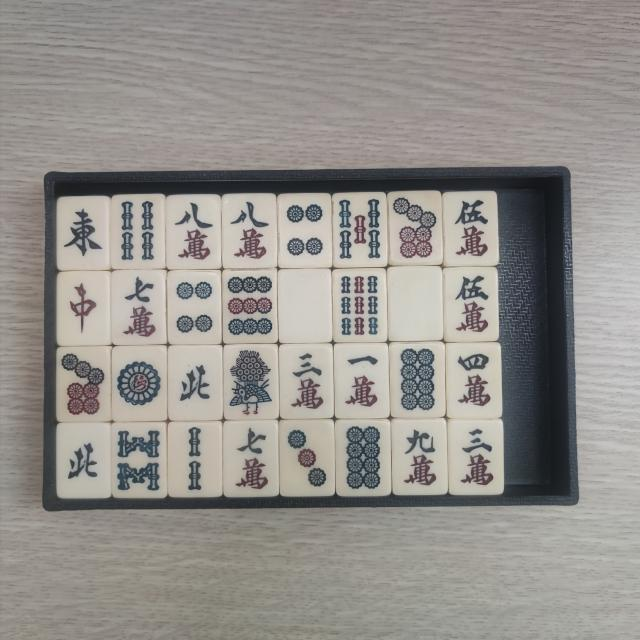hdr: (62, 275, 106, 339)
hdw: (394, 270, 439, 336), (284, 276, 329, 339)
hwe: (60, 202, 105, 266)
hwn: (175, 348, 218, 412), (64, 429, 106, 493)
sb1: (228, 348, 276, 418)
sb2: (172, 425, 216, 493)
sb4: (116, 197, 161, 264)
sb5: (338, 197, 383, 265)
sb8: (116, 426, 163, 494)
sb9: (338, 273, 382, 339)
sc1: (340, 348, 383, 414)
sc3: (456, 424, 500, 490), (286, 349, 328, 414)
sc4: (453, 348, 497, 412)
sc5: (448, 196, 492, 262), (450, 272, 492, 338)
sc7: (116, 274, 162, 342), (229, 426, 274, 494)
sc8: (172, 198, 218, 264), (226, 197, 270, 263)
sc9: (398, 425, 443, 492)
sd1: (116, 351, 164, 418)
sd3: (284, 424, 329, 491)
sd4: (284, 197, 328, 263), (173, 277, 218, 341)
sd7: (392, 195, 439, 262), (61, 352, 108, 418)
sd8: (396, 346, 442, 413), (340, 425, 384, 493)
sd9: (224, 274, 274, 338)
